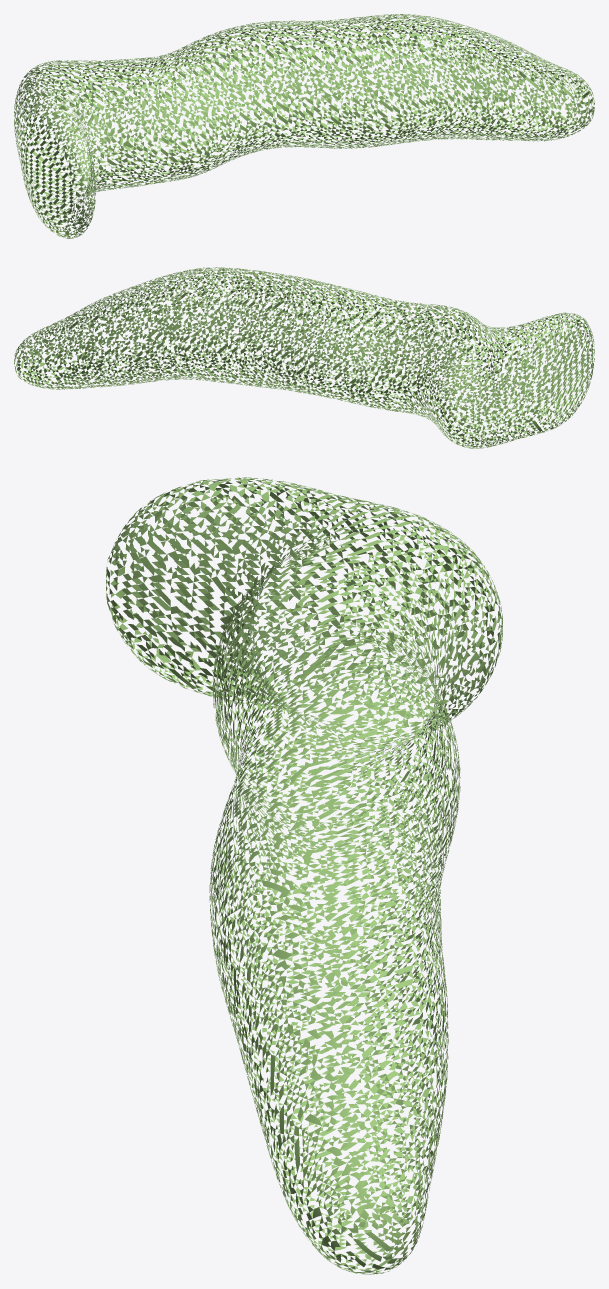
The model's file is morph_013.glb.
3 renders of one model, top to bottom at view 1: azimuth 30°, elevation 25°; view 2: azimuth 150°, elevation 25°; view 3: azimuth 270°, elevation 25°, orthographic. The views are drawn at different scales.
Bounding box in the file's own units: 115 × 34.32 × 38.07.
